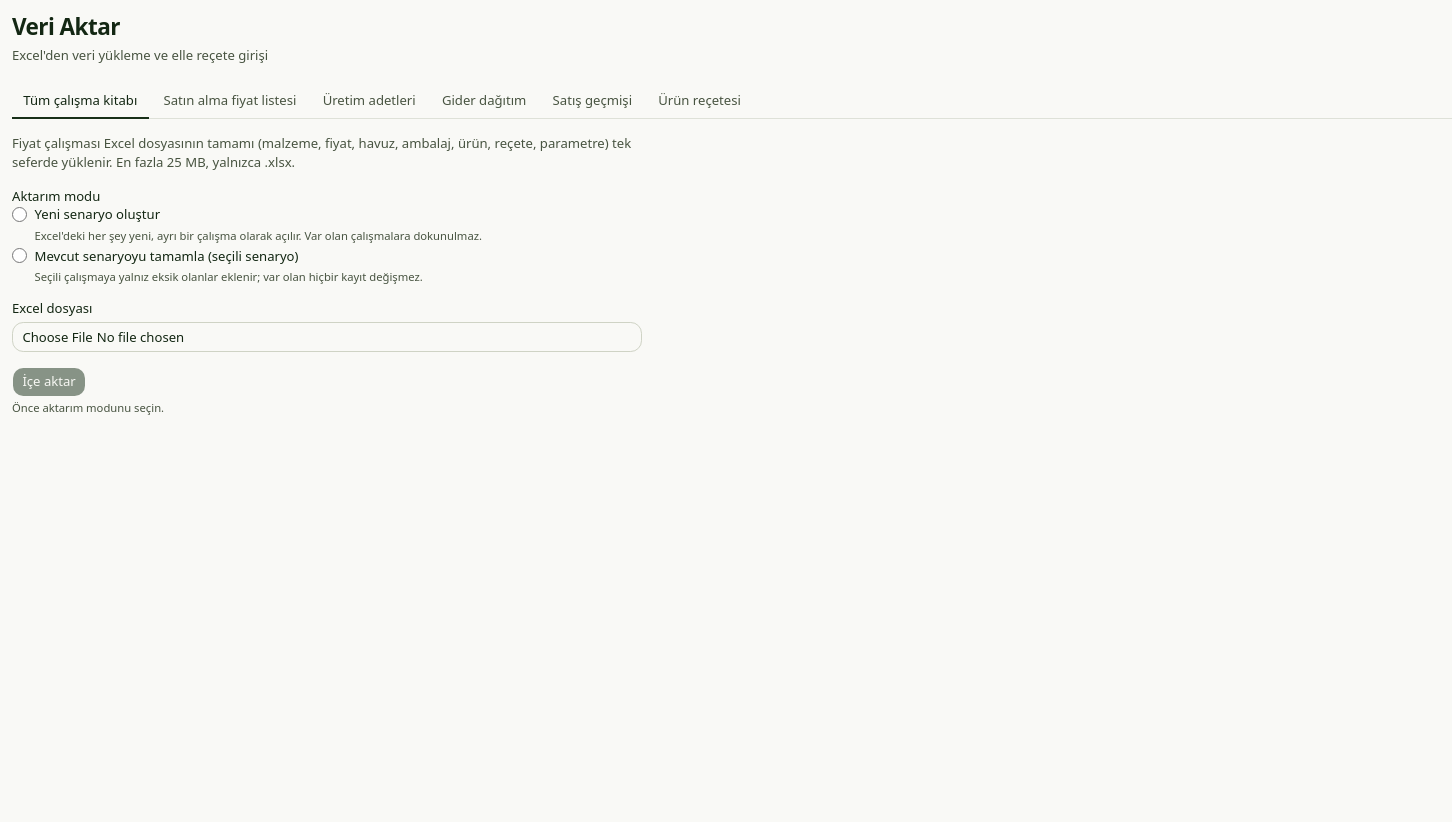
Scenario: ReceteAktar - tüm çalışma kitabı › dosyasız gönderilmez ve hata gösterir
Click the radio button labelled "Yeni senaryo oluştur": (20, 215) x1=12 y1=207 x2=27 y2=222
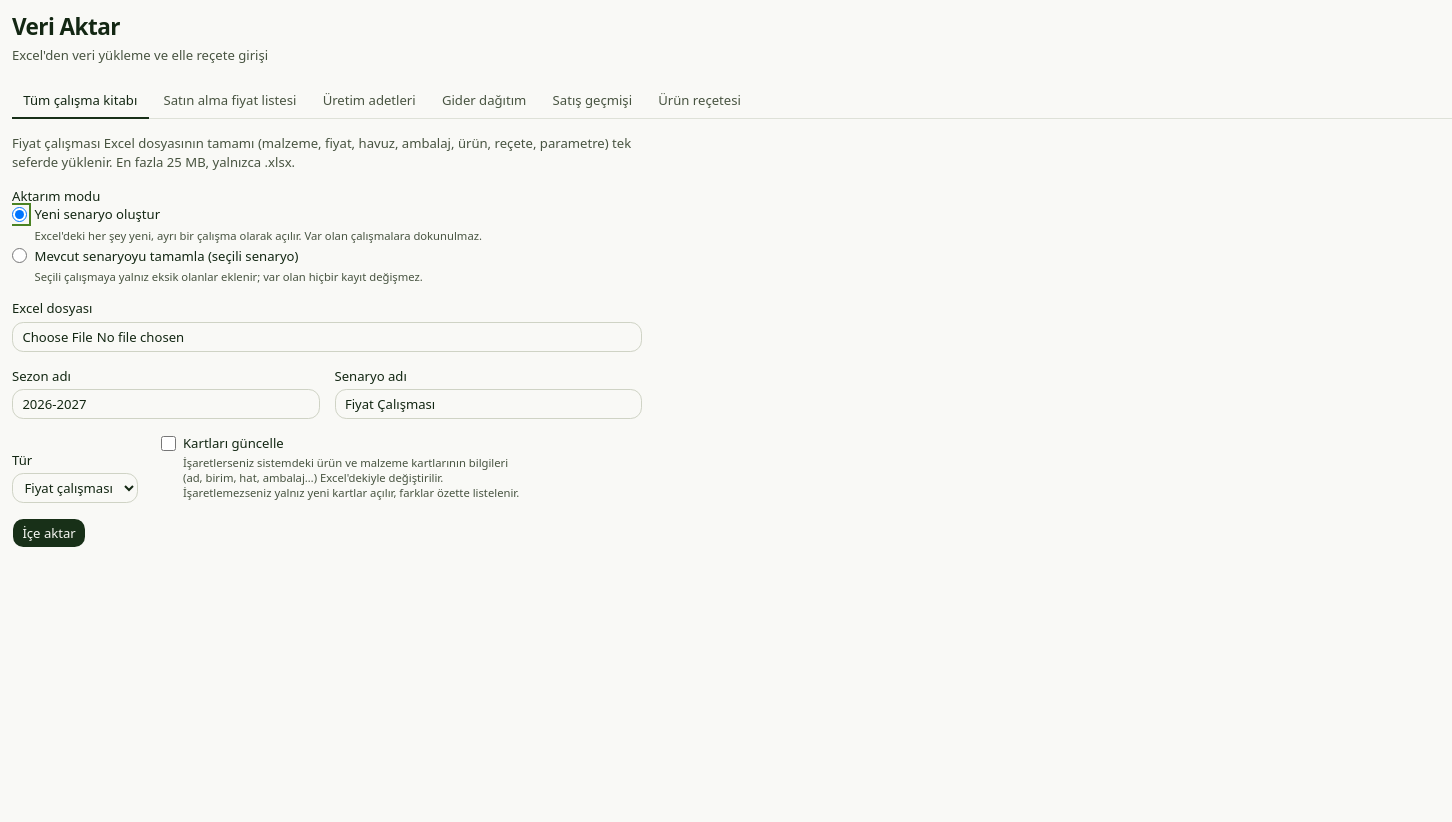
Click the button "İçe aktar": (49, 533) x1=12 y1=518 x2=86 y2=548
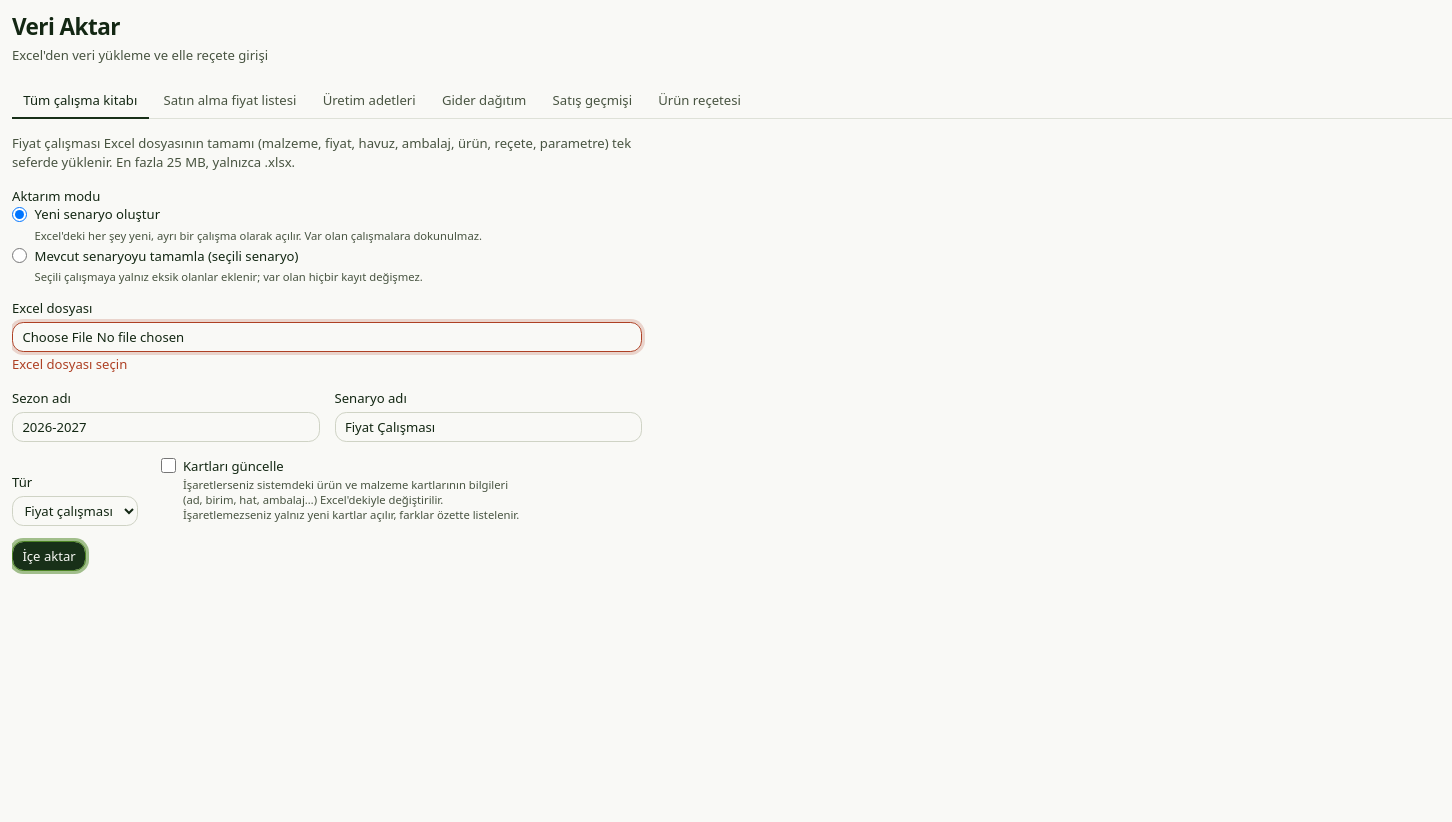
Result: the text "Excel dosyası seçin" is shown at x1=12 y1=355 x2=127 y2=373
